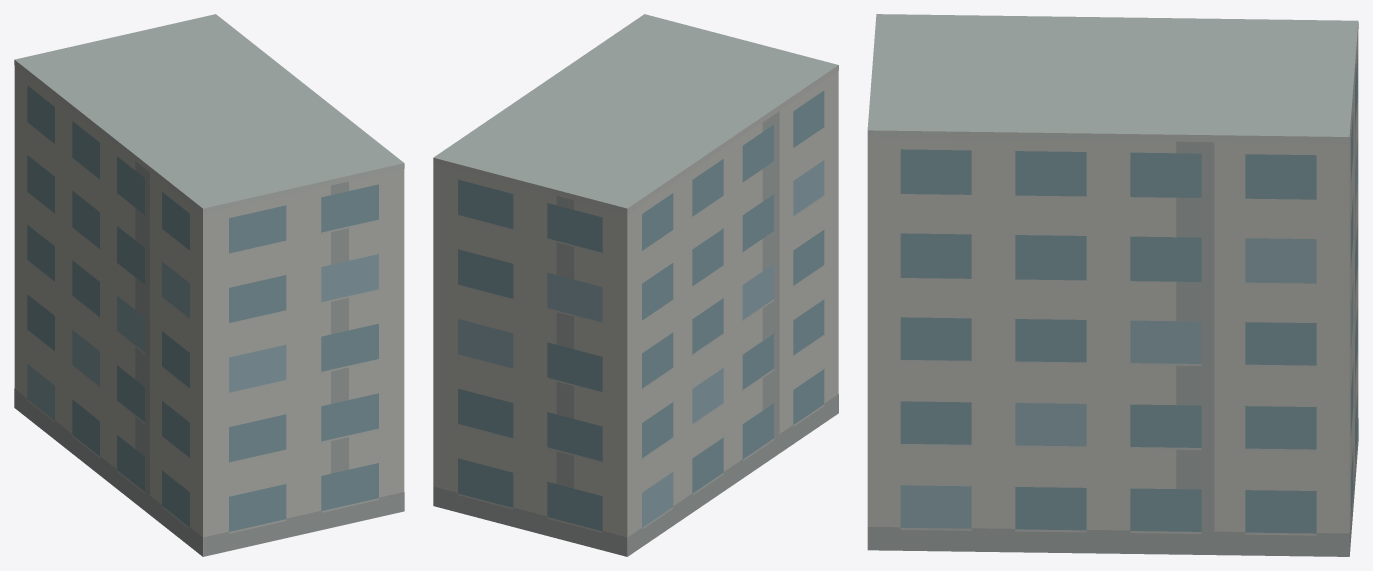
The model's file is survey-upis-33039951.glb.
3 renders of one model, left to right at view 1: azimuth 30°, elevation 25°; view 2: azimuth 150°, elevation 25°; view 3: azimuth 270°, elevation 25°, orthographic. The views are drawn at different scales.
Visible parts, largest first — view 1: survey-upis-33039951.tmp; view 2: survey-upis-33039951.tmp; view 3: survey-upis-33039951.tmp.
Boxes of the visible parts, <box> form: survey-upis-33039951.tmp: <box>14,14,404,556</box>; survey-upis-33039951.tmp: <box>433,14,838,556</box>; survey-upis-33039951.tmp: <box>867,14,1358,556</box>.
Size of the model in its own units: 9.15 by 14.55 by 15.43.
